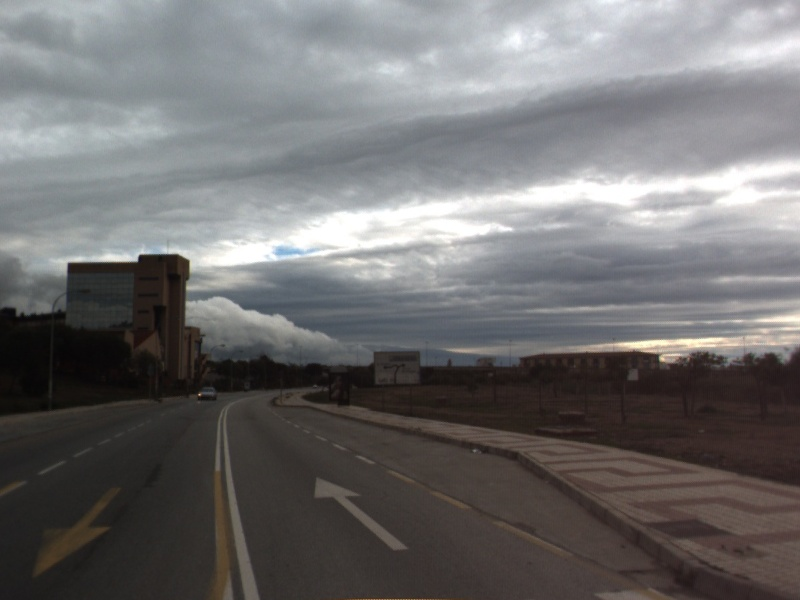STRAIGHT: (311, 473, 413, 552)
